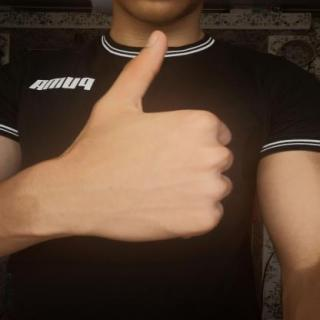ALIF: (38, 21, 250, 256)
